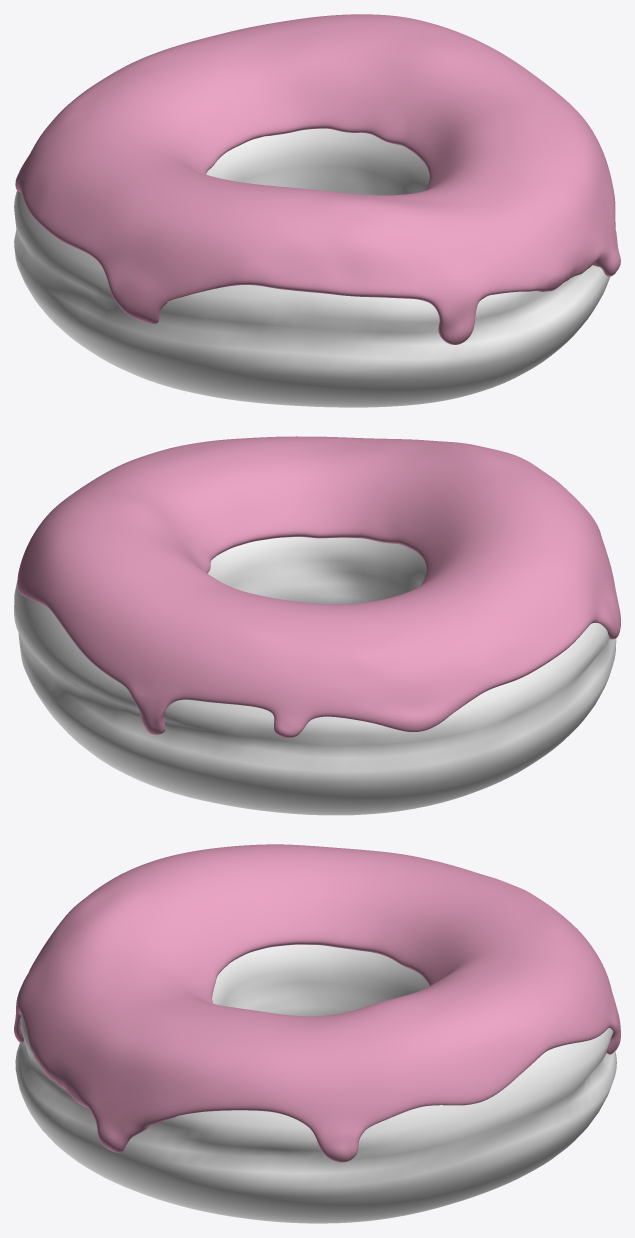
File: asset.glb
3 renders of one model, top to bottom at view 1: azimuth 30°, elevation 25°; view 2: azimuth 150°, elevation 25°; view 3: azimuth 270°, elevation 25°, orthographic.
Visible parts, largest first — view 1: icing.002, donut.002; view 2: icing.002, donut.002; view 3: icing.002, donut.002.
Boxes of the visible parts, x1=… form: icing.002: x1=15, y1=14, x2=620, y2=344; donut.002: x1=14, y1=128, x2=617, y2=407; icing.002: x1=17, y1=436, x2=620, y2=737; donut.002: x1=14, y1=537, x2=616, y2=815; icing.002: x1=14, y1=844, x2=620, y2=1162; donut.002: x1=15, y1=944, x2=616, y2=1223.
Size of the model in its own units: 0.149 by 0.0562 by 0.1506.
